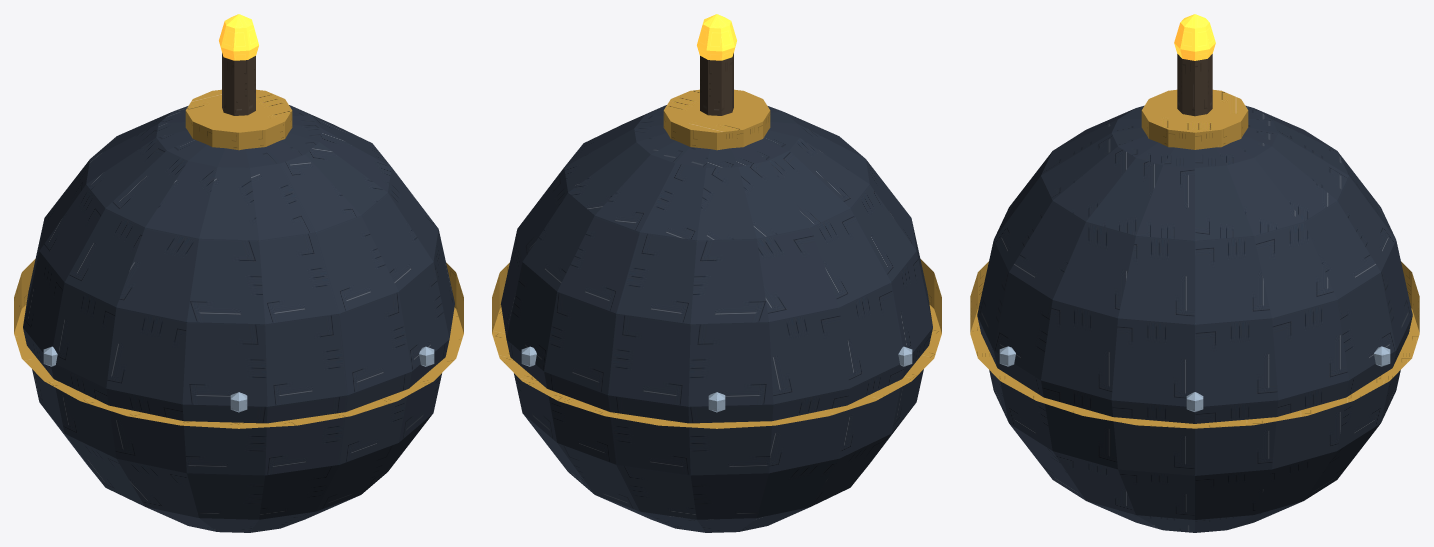
The model's file is blast.glb.
3 renders of one model, left to right at view 1: azimuth 30°, elevation 25°; view 2: azimuth 150°, elevation 25°; view 3: azimuth 270°, elevation 25°, orthographic.
Parts seen in each view (by area): view 1: body, fuse; view 2: body, fuse; view 3: body, fuse.
Part boxes in pixels (left/top/right/bottom): body: left=14, top=89, right=463, bottom=532; fuse: left=219, top=14, right=258, bottom=115; body: left=492, top=89, right=941, bottom=532; fuse: left=697, top=14, right=736, bottom=115; body: left=970, top=89, right=1419, bottom=532; fuse: left=1174, top=14, right=1215, bottom=116.
Bounding box in the file's own units: 0.2794 × 0.3411 × 0.2786.
5 materials, 5 textured.
